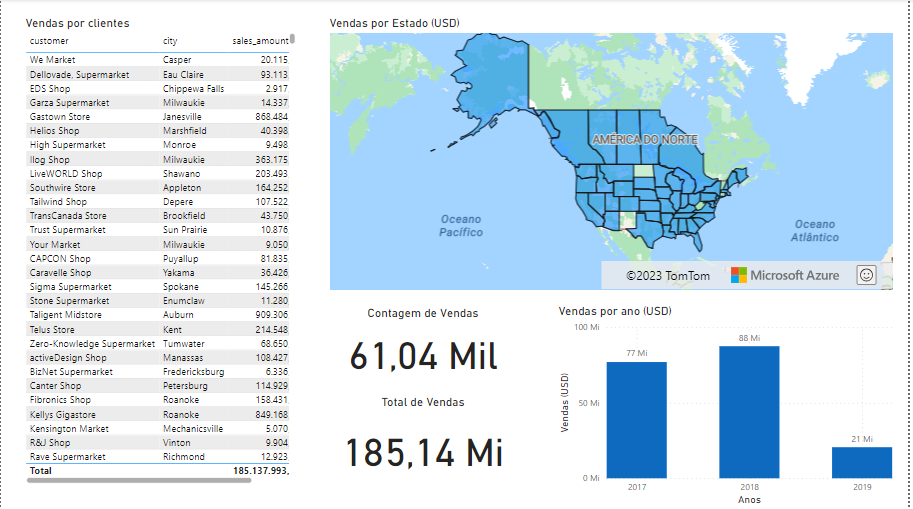

What the dashboard file says about the page in this screenshot:
{"tool":"powerbi","page":{"name":"Vendas","canvas":[1280,720],"ordinal":1},"visuals":[{"type":"card","fields":{"Values":["Count(ft_vendas.DW_VENDAS)"]},"box":[441.7,23.3,250,108.3],"z":0},{"type":"tableEx","fields":{"Values":["dim_clientes.customer","Sum(ft_vendas.sales_amount)","dim_localidade.state"]},"box":[30,23.3,390,658.3],"z":1000},{"type":"columnChart","fields":{"Category":["dim_tempo._year"],"Y":["Sum(ft_vendas.sales_amount)"]},"box":[395,175,220,368.3],"z":1001},{"type":"filledMap","fields":{"Category":["dim_localidade.state"]},"box":[818.3,233.3,461.7,310],"z":1002}]}

Visuals, with their boxes in screenshot pixels (x1, y1, x2, y2), scaled from the page's 1280x720 canvas onto the 913x509 screenshot:
card - Count(ft_vendas.DW_VENDAS): <box>315,16,493,93</box>
tableEx - dim_clientes.customer x Sum(ft_vendas.sales_amount): <box>21,16,300,482</box>
columnChart - dim_tempo._year x Sum(ft_vendas.sales_amount): <box>282,124,439,384</box>
filledMap - dim_localidade.state: <box>584,165,912,384</box>
